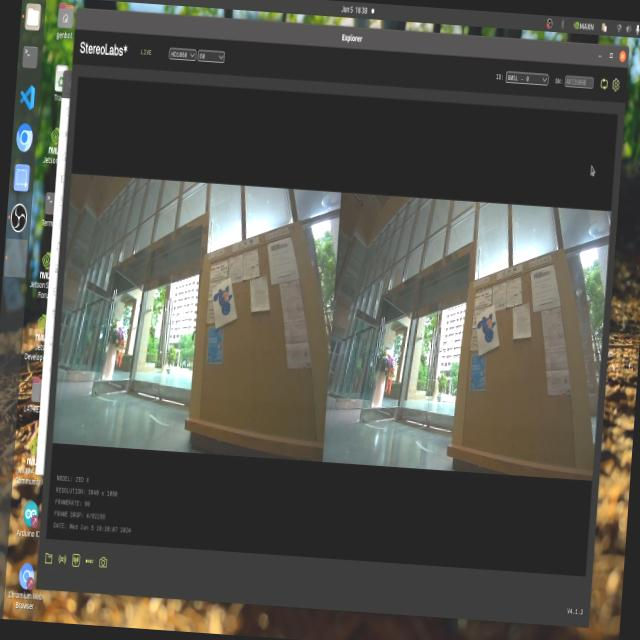blue: (472, 304, 504, 353), (206, 286, 232, 316)
